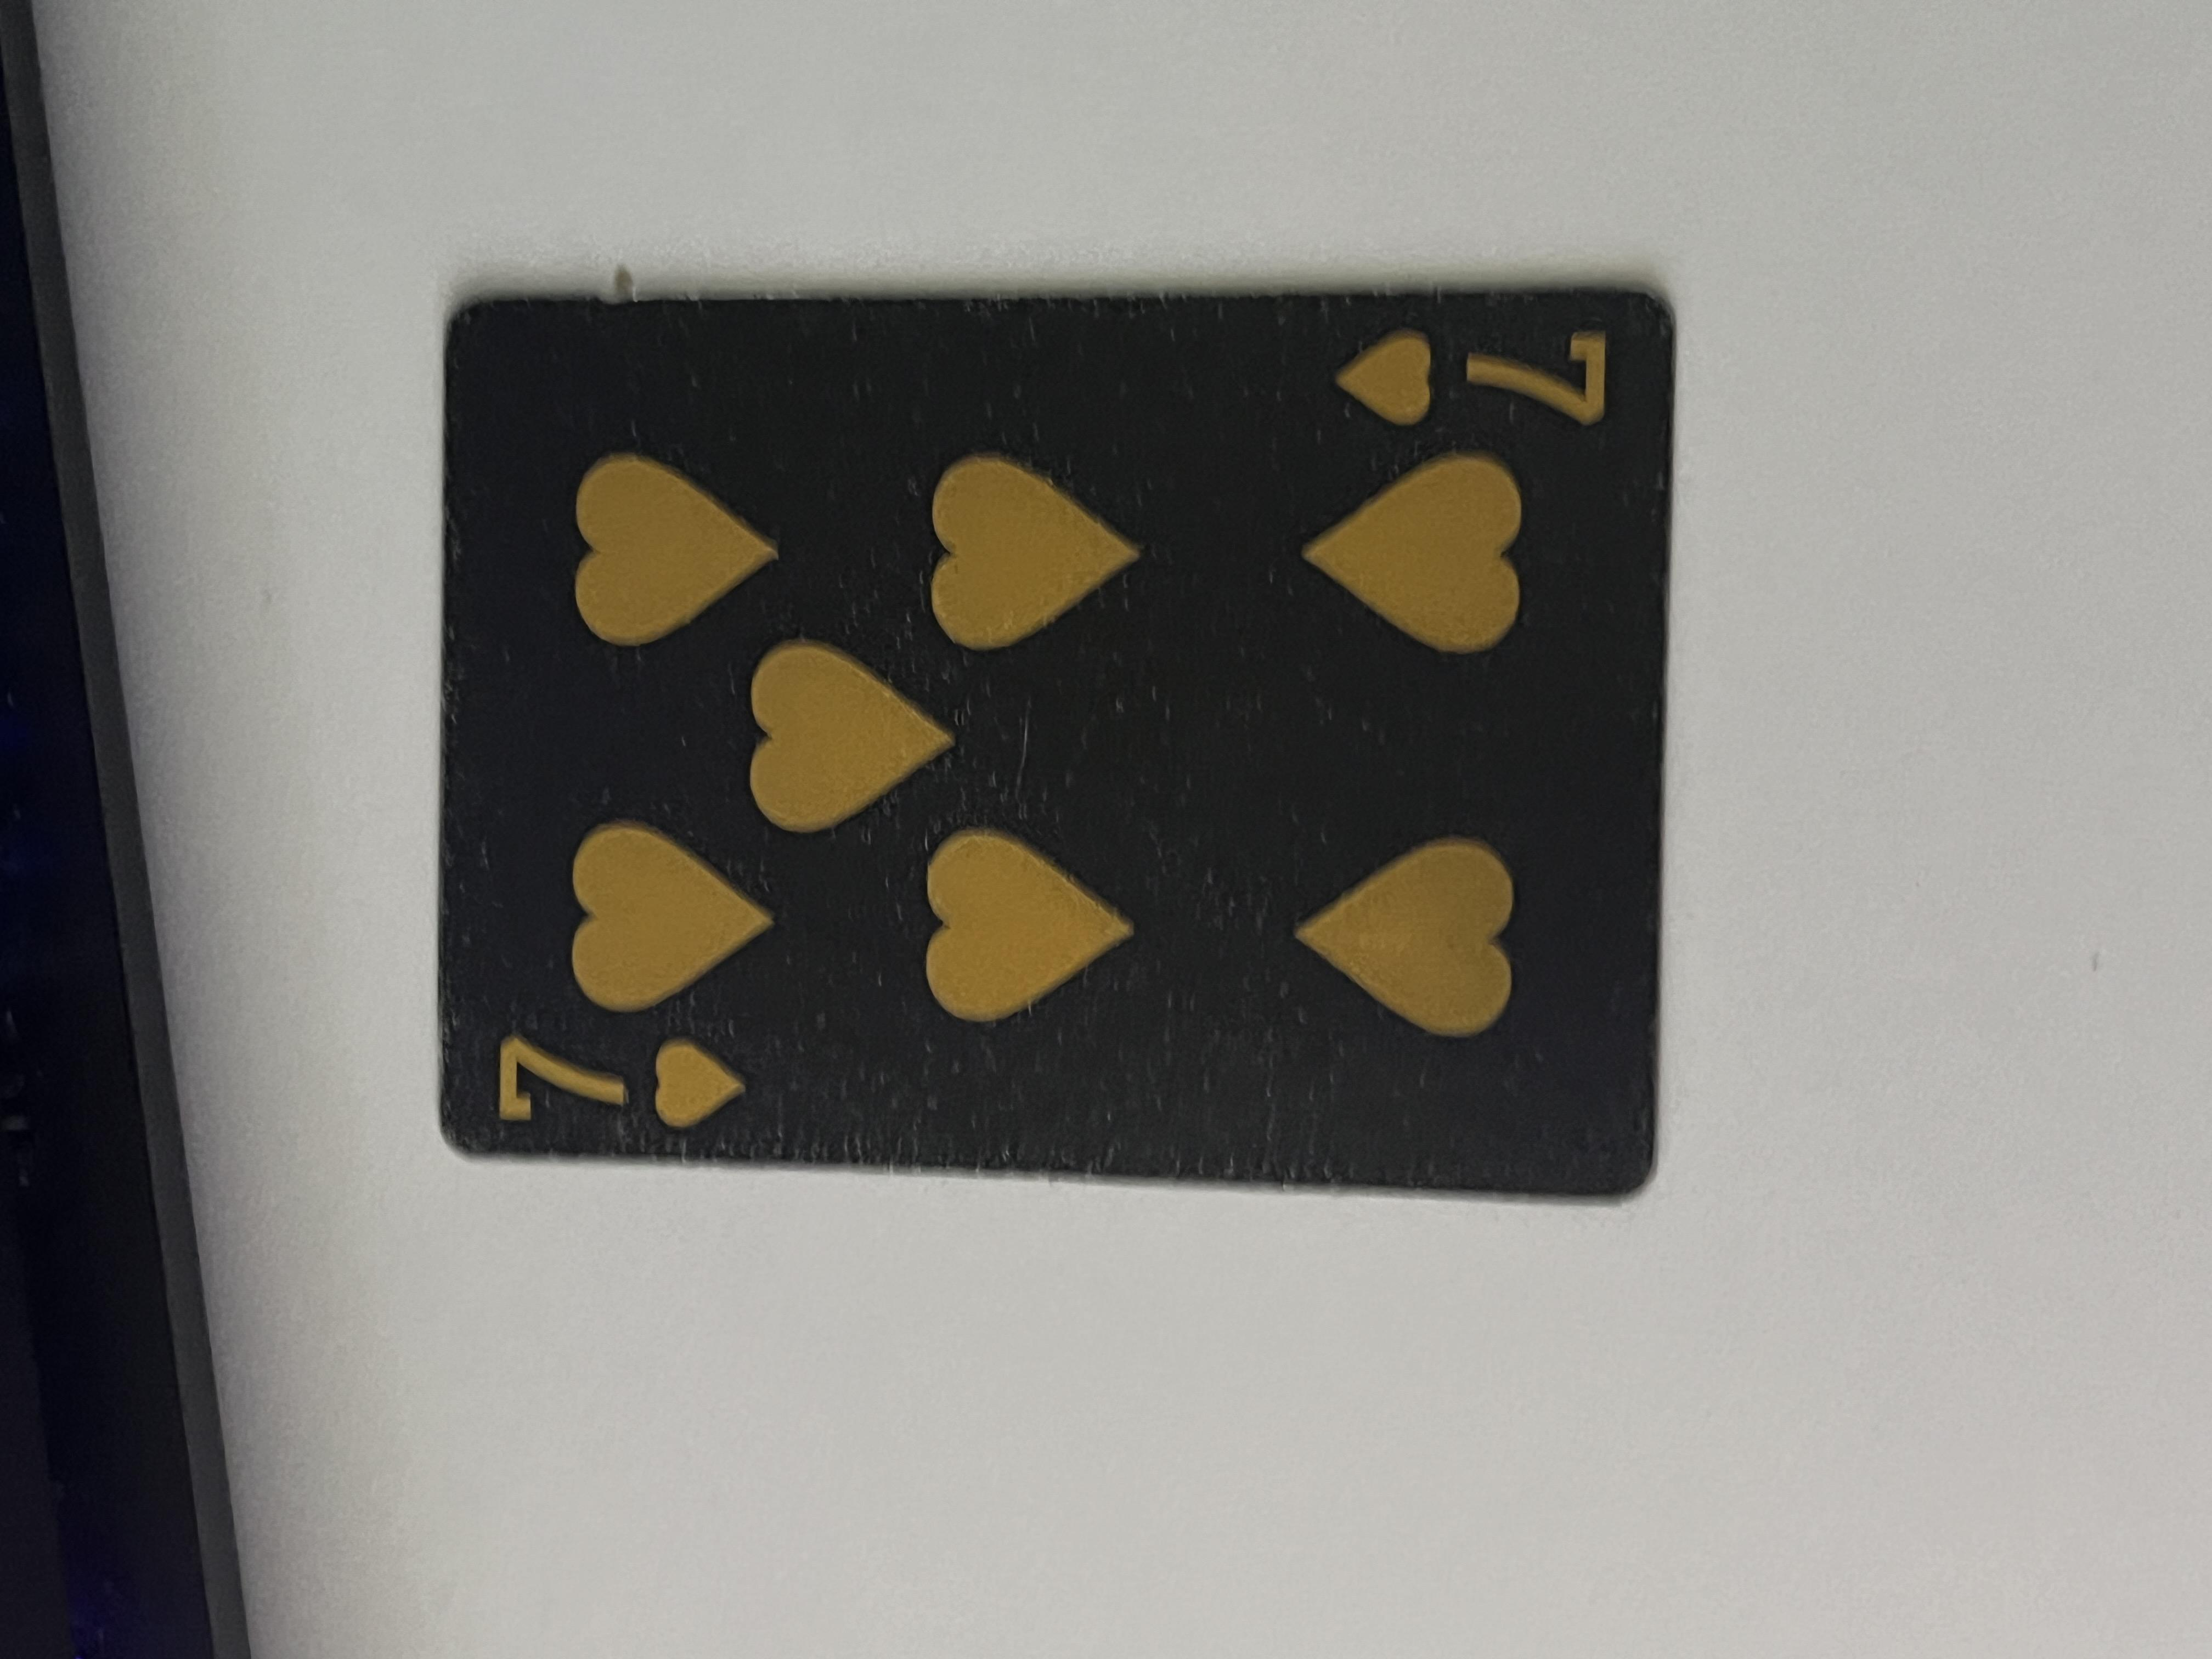7H: (1616, 985, 1806, 1220), (665, 352, 838, 572)
